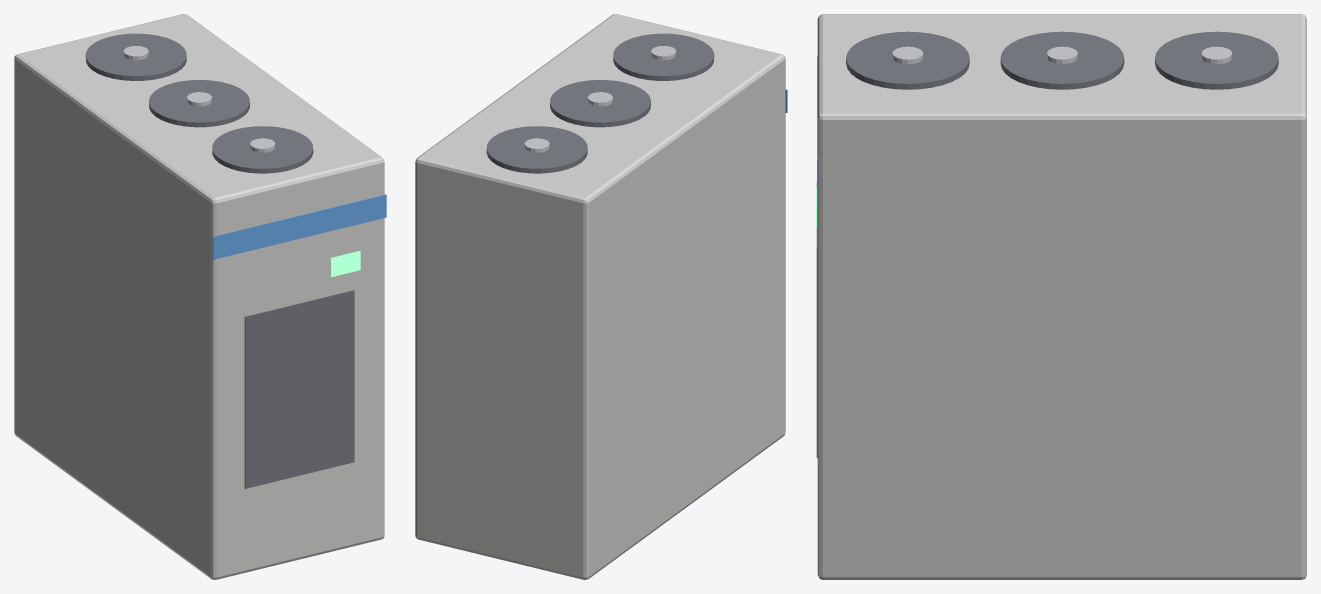
Rendered from crah.glb.
The picture shows the model from 3 angles, left to right: view 1: azimuth 30°, elevation 25°; view 2: azimuth 150°, elevation 25°; view 3: azimuth 270°, elevation 25°; orthographic projection. The views are drawn at different scales.
Parts seen in each view (by area): view 1: body, panel, stripe, fan0, fan2, fan1, disp; view 2: body, fan2, fan0, fan1; view 3: body, fan0, fan1, fan2.
Boxes of the visible parts, x1,y1,x2,y2 form: body: [14, 14, 384, 579]; panel: [244, 290, 354, 488]; stripe: [212, 194, 386, 259]; fan0: [212, 126, 313, 173]; fan2: [85, 33, 186, 80]; fan1: [149, 80, 249, 127]; disp: [331, 251, 360, 277]; body: [415, 14, 785, 579]; fan2: [486, 126, 587, 173]; fan0: [613, 33, 714, 80]; fan1: [550, 80, 650, 127]; body: [817, 14, 1306, 579]; fan0: [846, 31, 969, 89]; fan1: [1000, 31, 1124, 89]; fan2: [1155, 31, 1278, 89].
Size of the model in its own units: 0.95 by 2.04 by 1.91.
